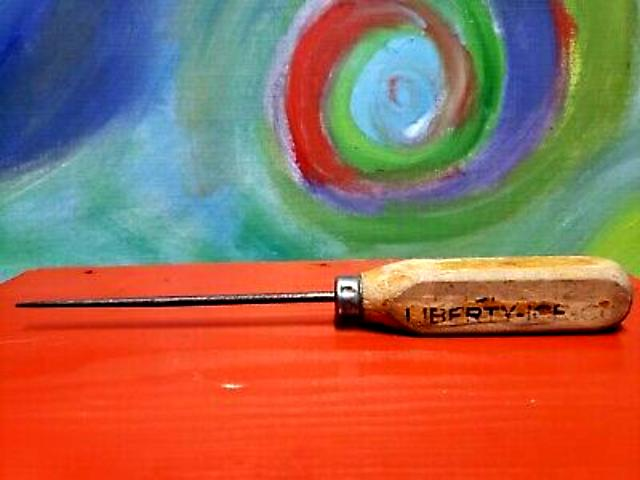ice pick: (15, 256, 632, 336)
